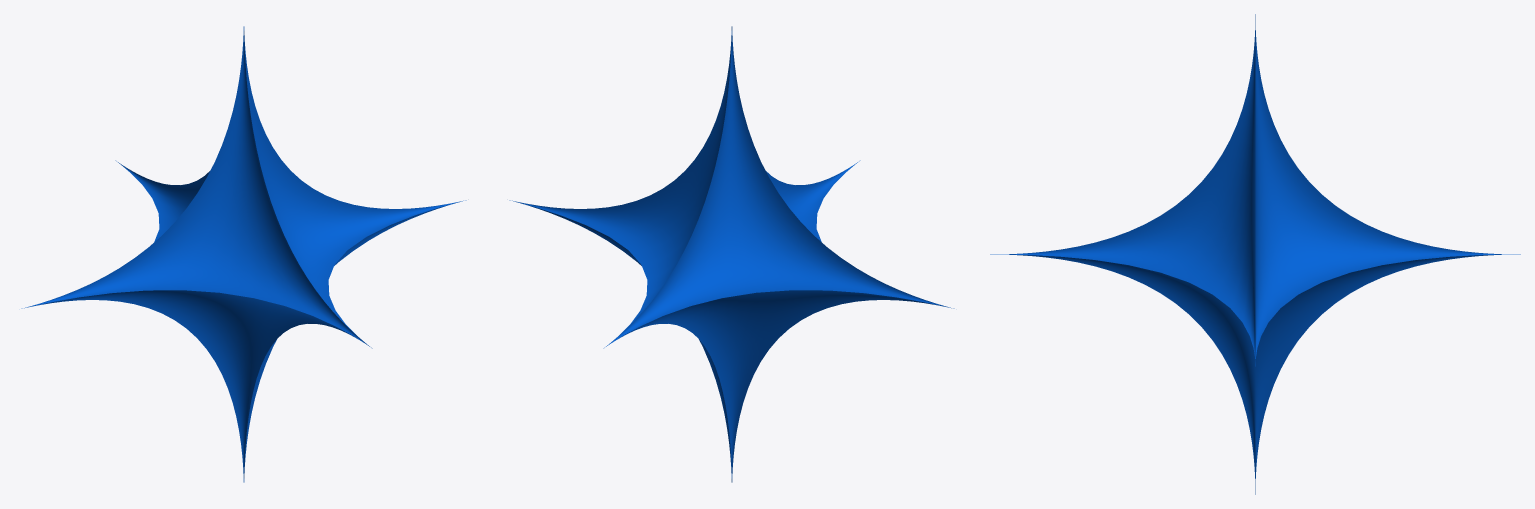
The model's file is gem_4.fbx.
3 views of the same model, side by side, from view 1: azimuth 30°, elevation 25°; view 2: azimuth 150°, elevation 25°; view 3: azimuth 270°, elevation 25° (orthographic).
Parts seen in each view (by area): view 1: pSuperShape1; view 2: pSuperShape1; view 3: pSuperShape1.
Boxes of the visible parts, x1,y1,x2,y2 form: pSuperShape1: (21,26,466,482); pSuperShape1: (509,26,954,482); pSuperShape1: (990,14,1520,494).
Bounding box in the file's own units: 6.39 × 6.39 × 6.39.
